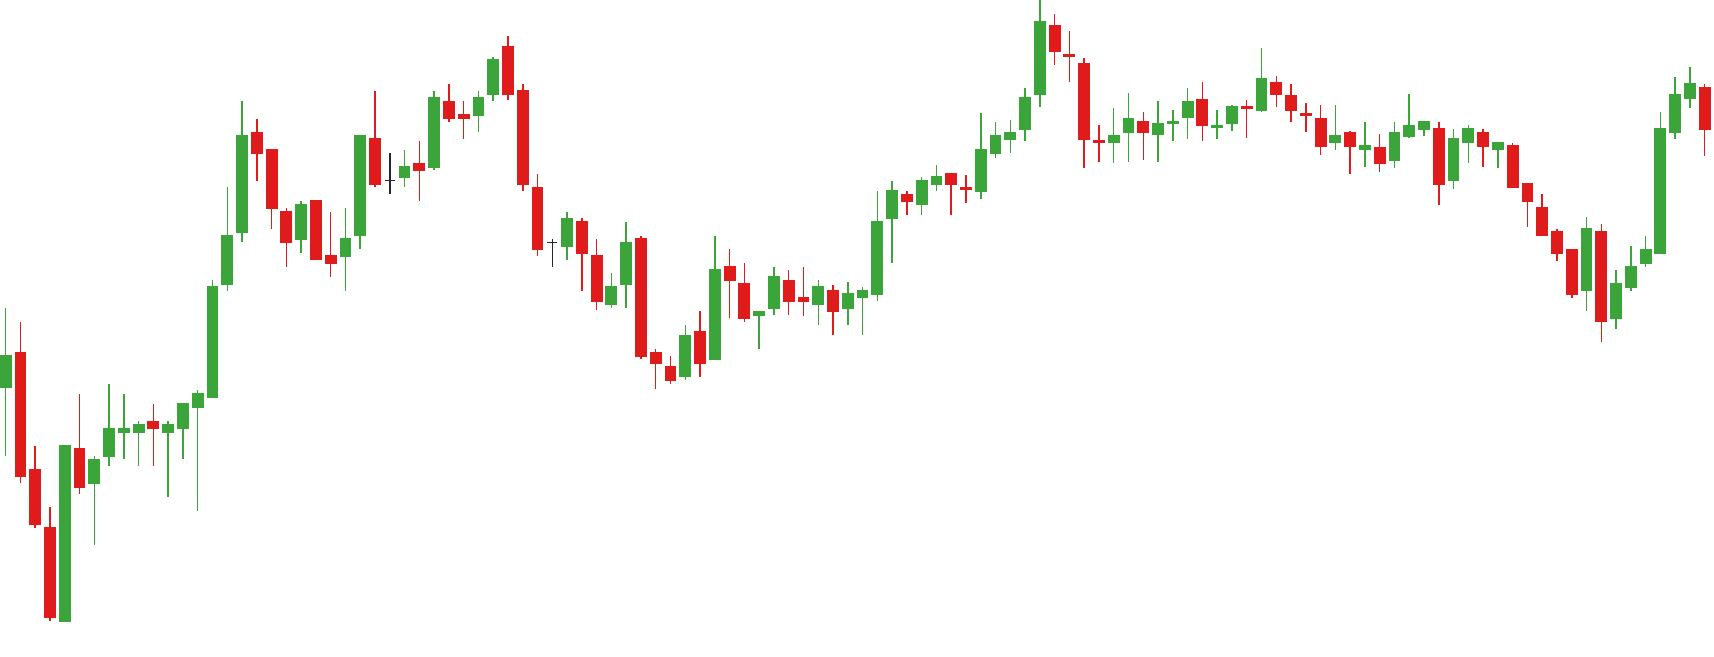sell: (365, 84, 456, 159)
